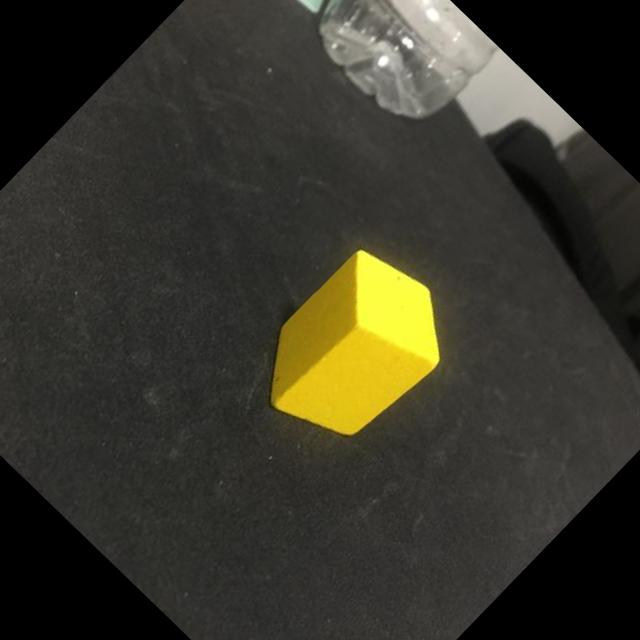yellow: (235, 234, 470, 471)
